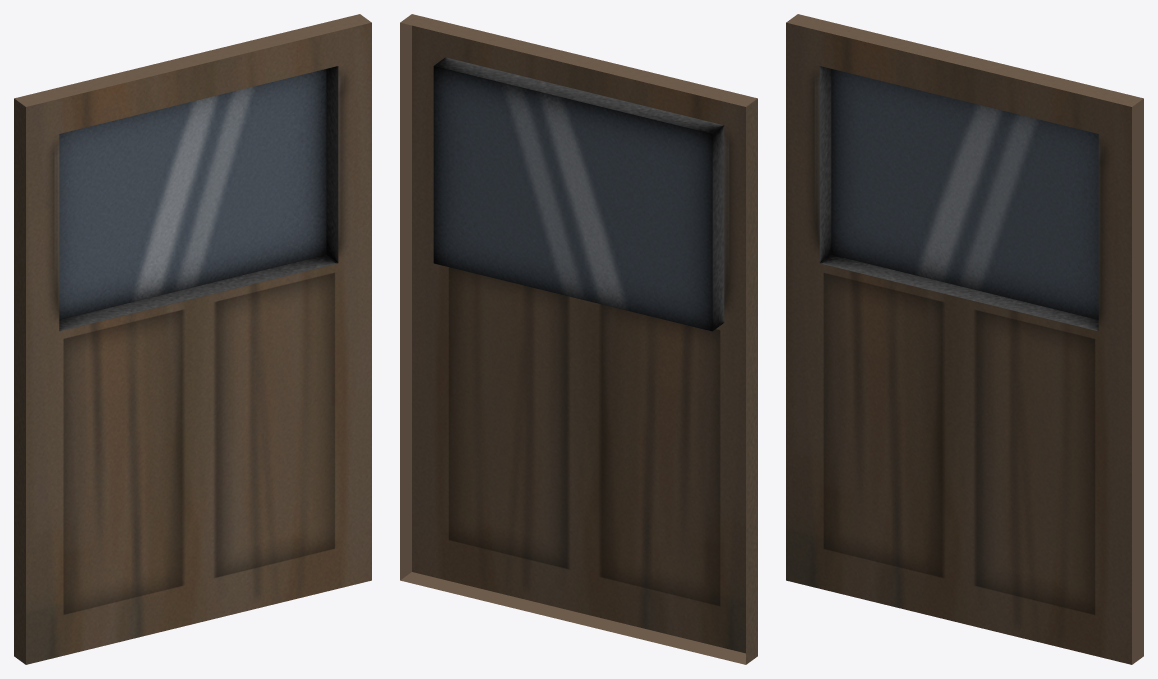
File: Prop_Door.FBX
3 renders of one model, left to right at view 1: azimuth 30°, elevation 25°; view 2: azimuth 150°, elevation 25°; view 3: azimuth 330°, elevation 25°, orthographic.
Parts seen in each view (by area): view 1: Object002; view 2: Object002; view 3: Object002.
Part boxes in pixels (x1,y1,x2,y2): Object002: [14, 14, 371, 664]; Object002: [400, 14, 757, 664]; Object002: [786, 14, 1143, 664].
Bounding box in the file's own units: 105 × 162 × 6.22.
